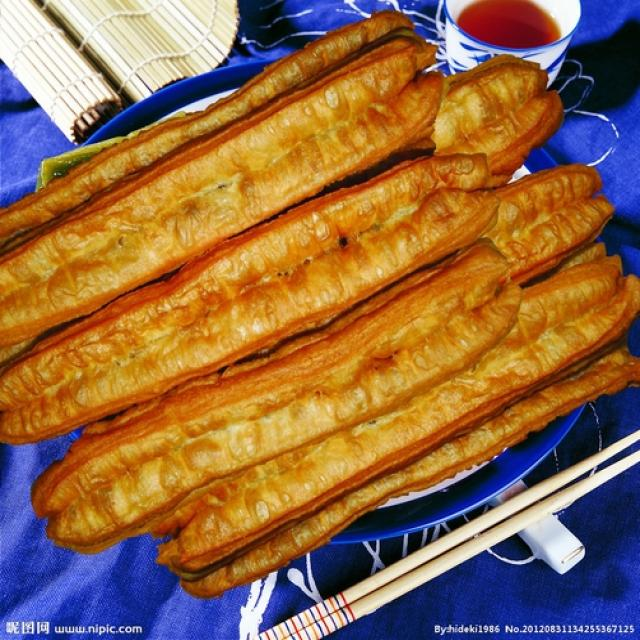炸货点心: (12, 36, 620, 591)
